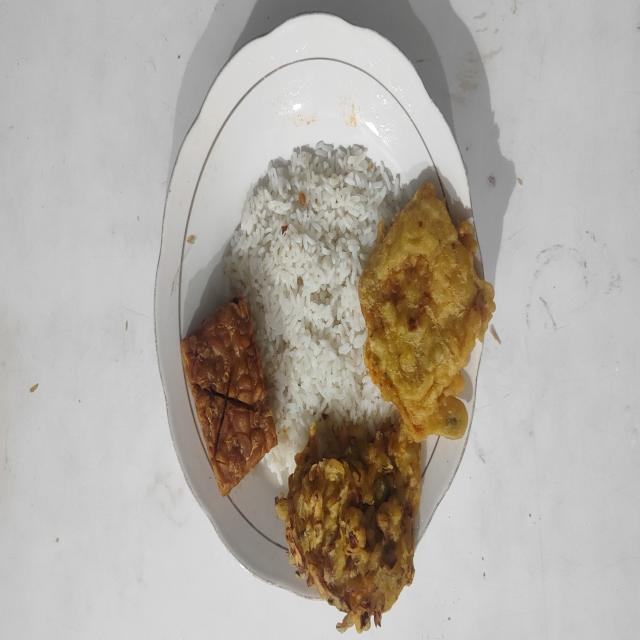nasi_putih: (224, 141, 400, 484)
tempe_goreng: (182, 299, 278, 496)
